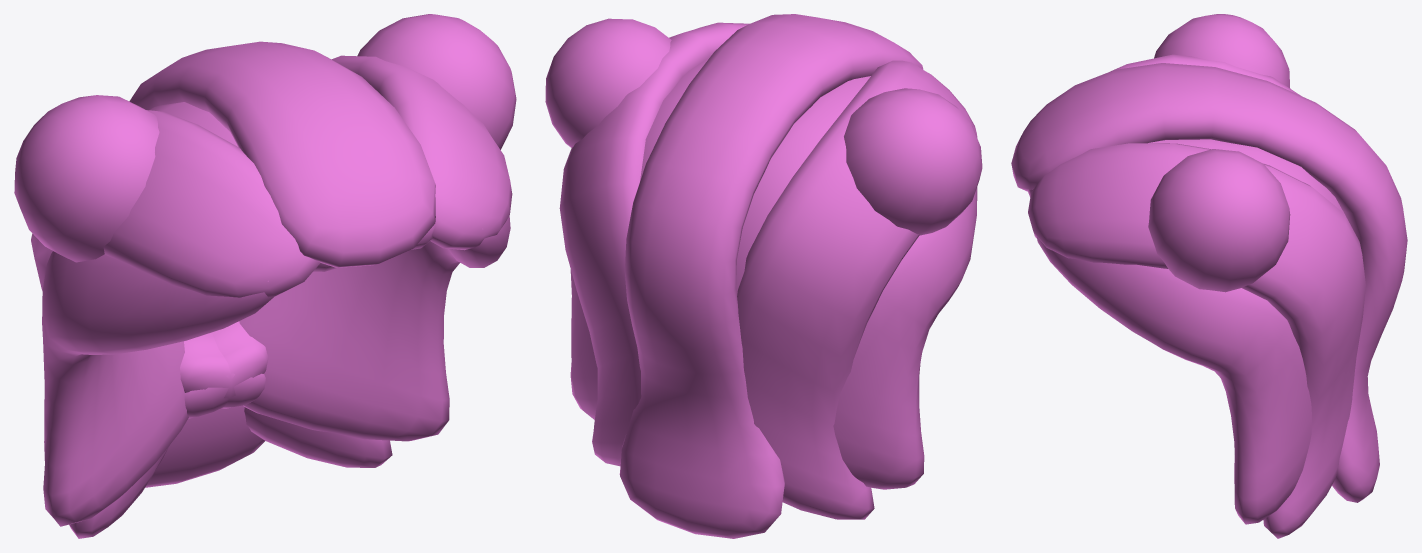
File: hair_2.fbx
The picture shows the model from 3 angles, left to right: view 1: azimuth 30°, elevation 25°; view 2: azimuth 150°, elevation 25°; view 3: azimuth 270°, elevation 25°; orthographic projection. The views are drawn at different scales.
Visible parts, largest first — view 1: hair_2; view 2: hair_2; view 3: hair_2.
Boxes of the visible parts, left/top/right/bottom form: hair_2: left=14, top=14, right=516, bottom=538; hair_2: left=545, top=14, right=982, bottom=538; hair_2: left=1011, top=14, right=1407, bottom=538.
Bounding box in the file's own units: 109 × 107 × 93.49.
